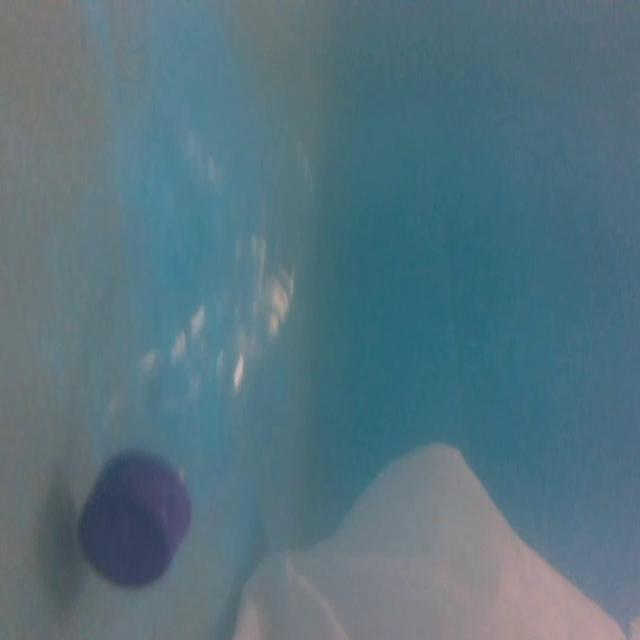plastic bags: (227, 441, 632, 640)
plastic bottle: (72, 73, 320, 596)
